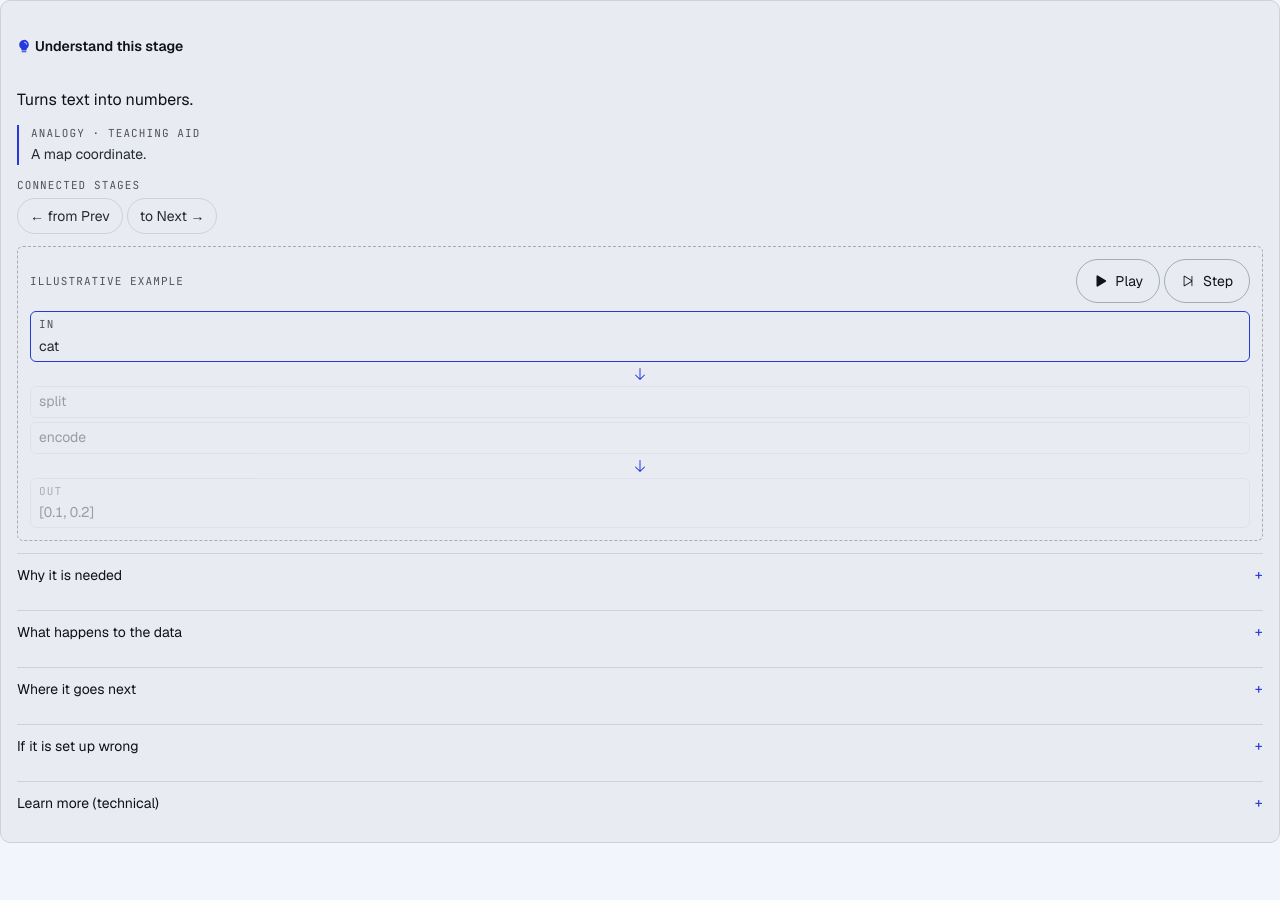
Test case: Understand › shows the short version first and keeps the depth collapsed
This screenshot has width=1280, height=900.
expect the text "Turns text into numbers." is shown: met, box [17,89,193,110]
expect the text "ANALOGY · TEACHING AID" is shown: met, box [31,126,200,140]
Step 1. Click the heading "Why it is needed" → (70, 576), box [17,566,122,584]
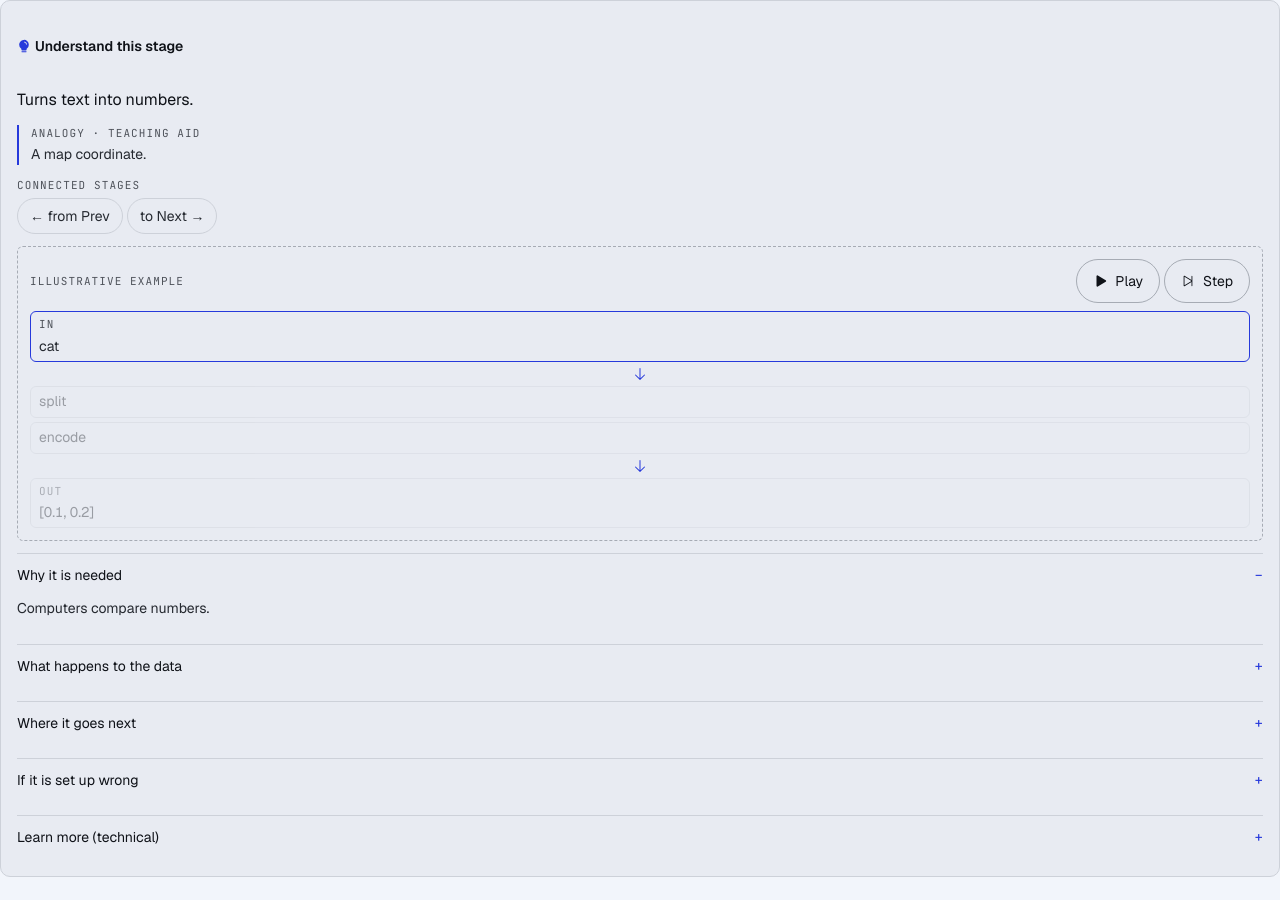
expect the text "Computers compare numbers." is shown: met, box [17,599,209,617]
